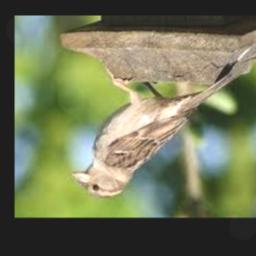Sparrow: (72, 70, 231, 197)
